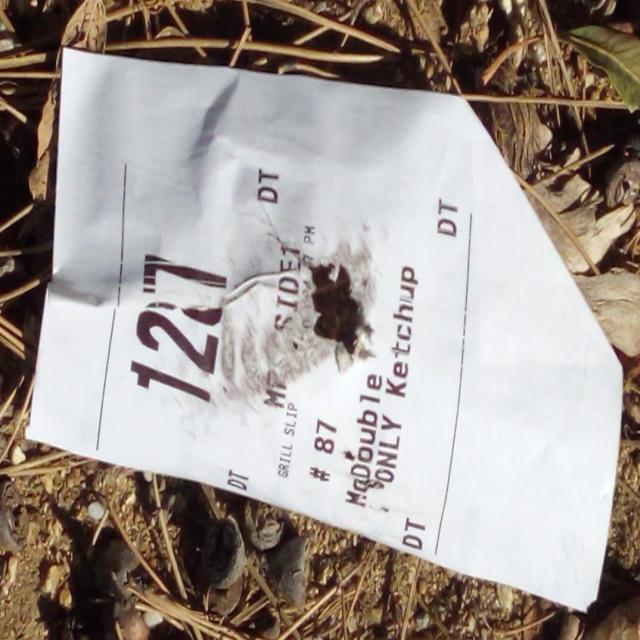litter: (24, 48, 626, 617)
